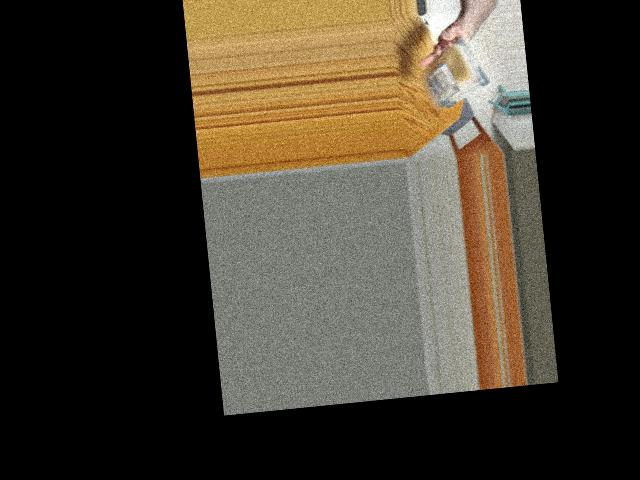cheese: (425, 38, 487, 115)
